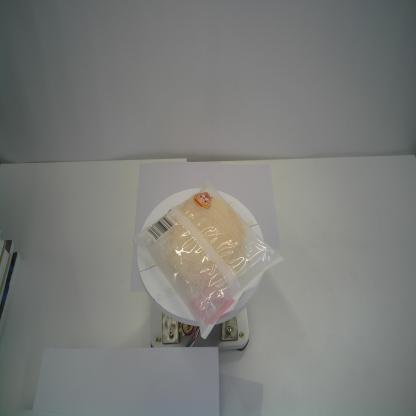Dessert: (132, 181, 286, 341)
